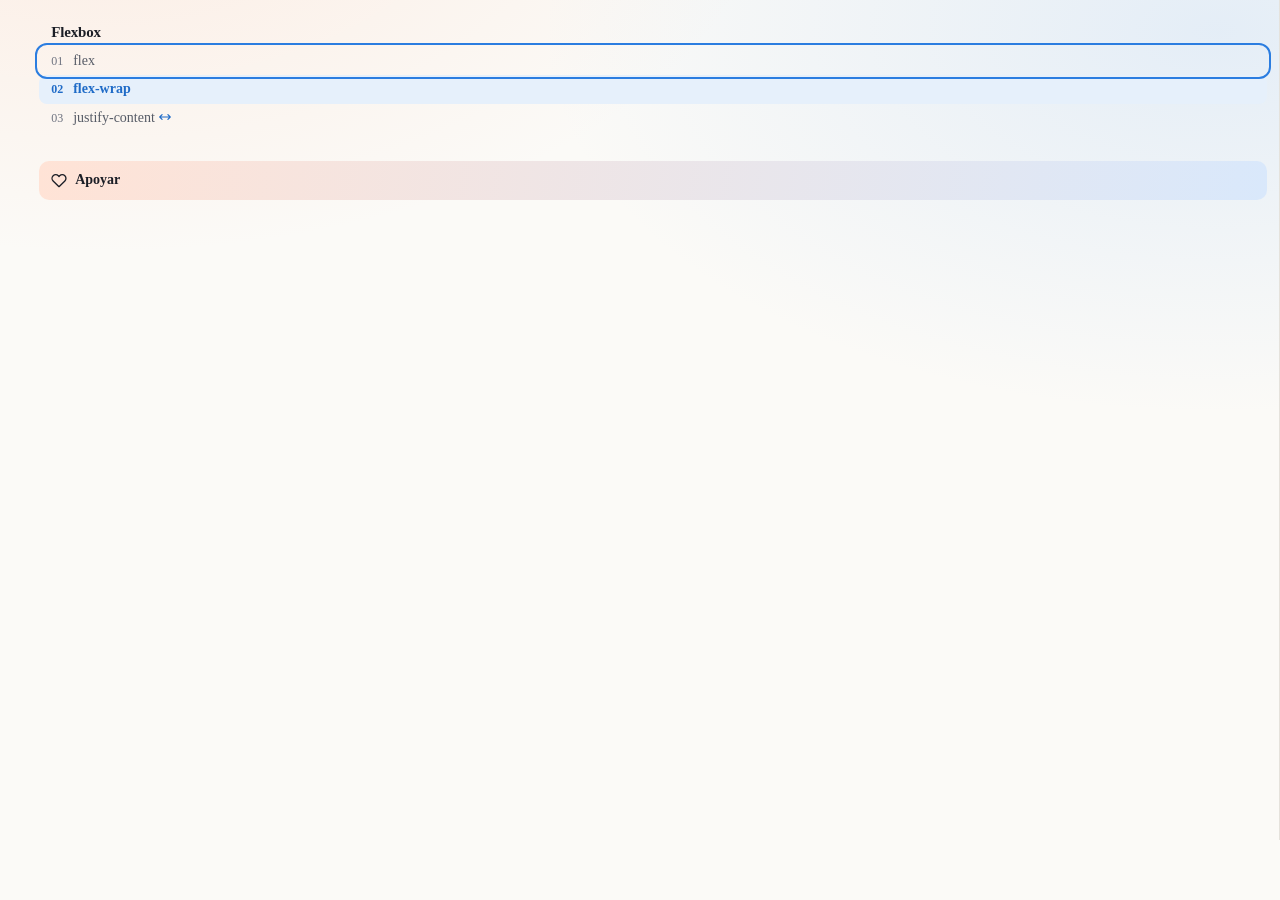
Scenario: SideNav › closes after following a link or the support link
Earlier steps of the test are not shown.
Click the link "Apoyar" at (98, 180), box [39, 161, 1267, 200]
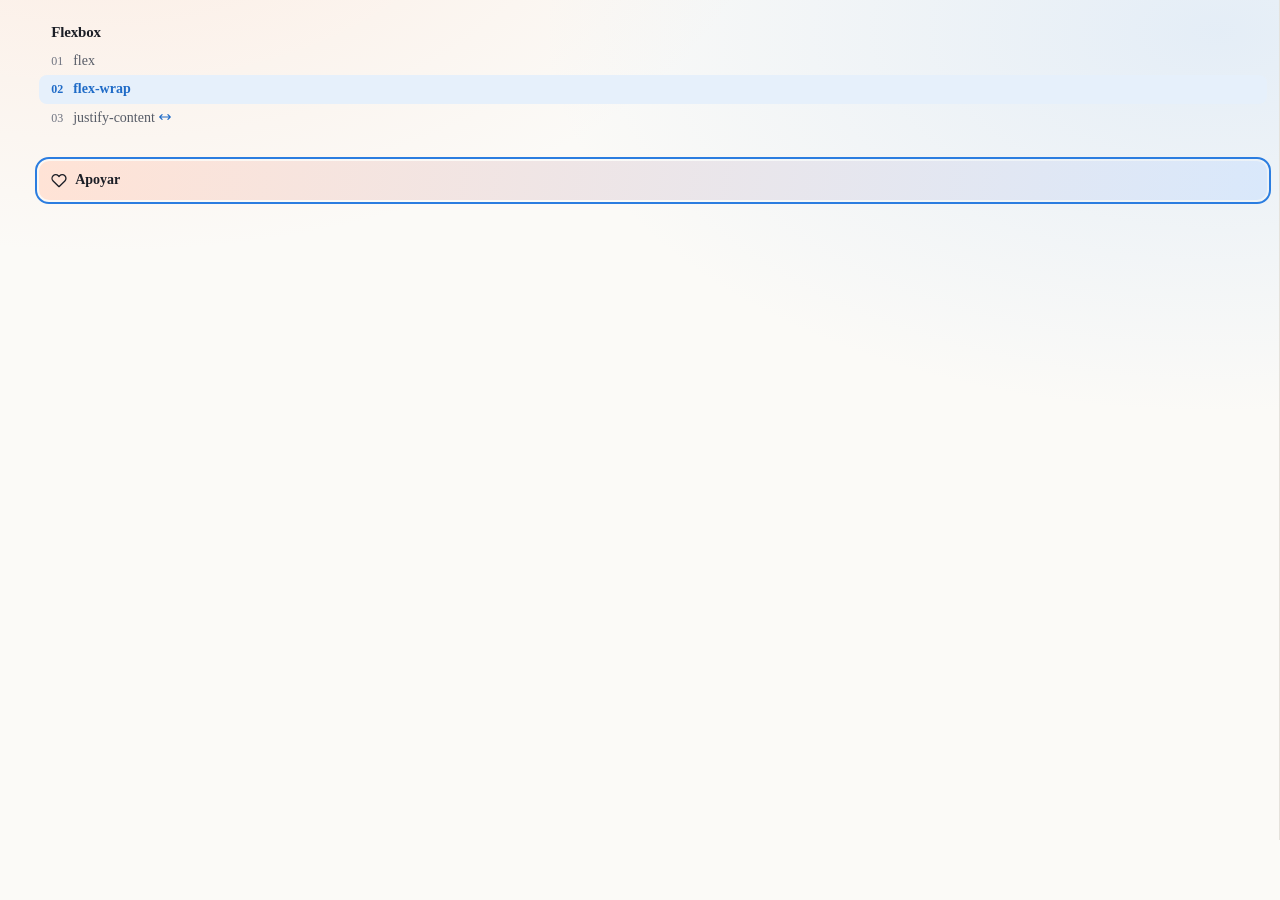
Expected: the navigation bar has attribute data-open="false", [39, 24, 1267, 200]
